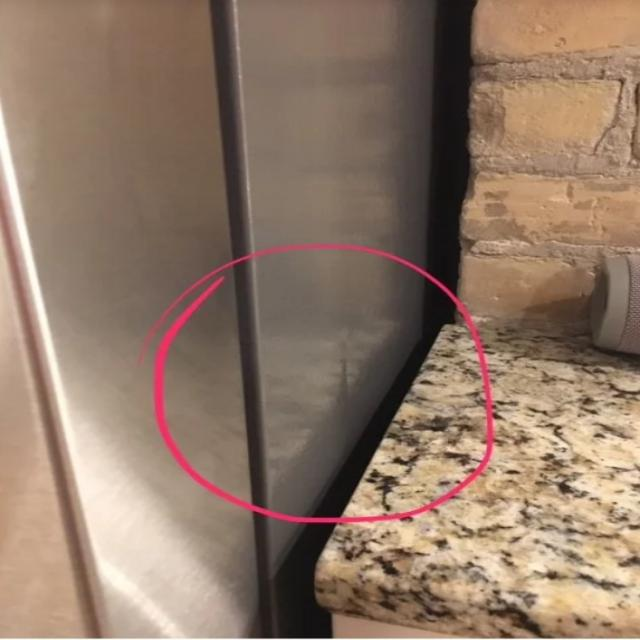dents: (316, 331, 388, 433)
